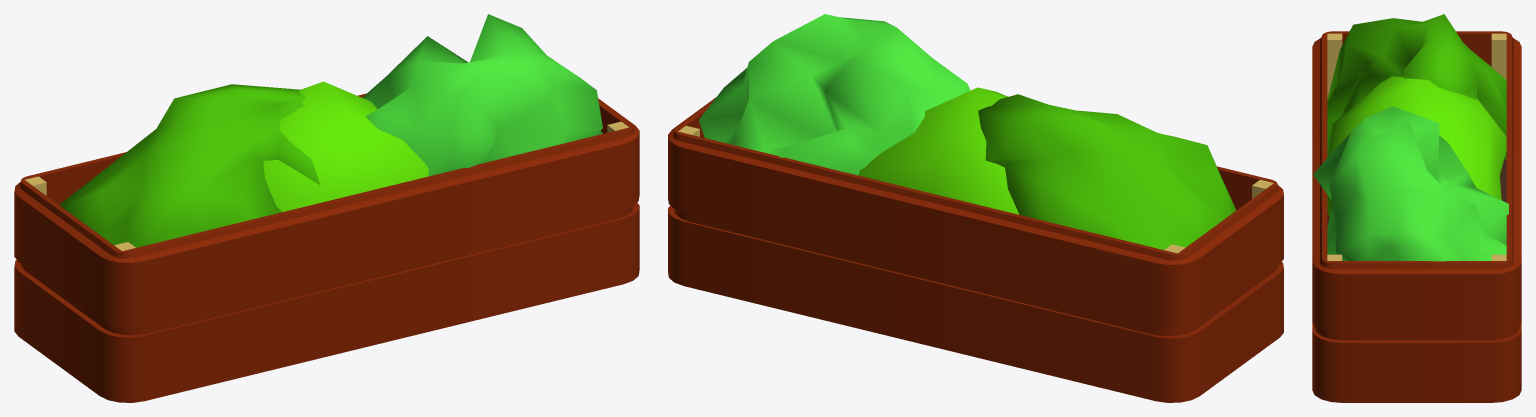
File: garden_planter.glb
3 views of the same model, side by side, from view 1: azimuth 30°, elevation 25°; view 2: azimuth 150°, elevation 25°; view 3: azimuth 270°, elevation 25° (orthographic). The views are drawn at different scales.
Visible parts, largest first — view 1: Planter, Plant, Plant3, Plant2; view 2: Planter, Plant3, Plant, Plant2; view 3: Planter, Plant3, Plant, Plant2, Post, Post4, Soil.
Part boxes in pixels (x1,y1,x2,y2): Planter: (14,93,639,402); Plant: (59,84,319,247); Plant3: (362,14,602,176); Plant2: (263,81,428,211); Planter: (668,97,1283,402); Plant3: (699,14,970,175); Plant: (978,94,1236,249); Plant2: (858,87,1019,214); Planter: (1312,31,1521,402); Plant3: (1313,106,1508,261); Plant: (1327,14,1506,154); Plant2: (1327,76,1506,217); Post: (1491,33,1506,79); Post4: (1327,33,1342,97); Soil: (1327,155,1506,226).
Bounding box in the file's own units: 3.8 × 1.71 × 1.4.
